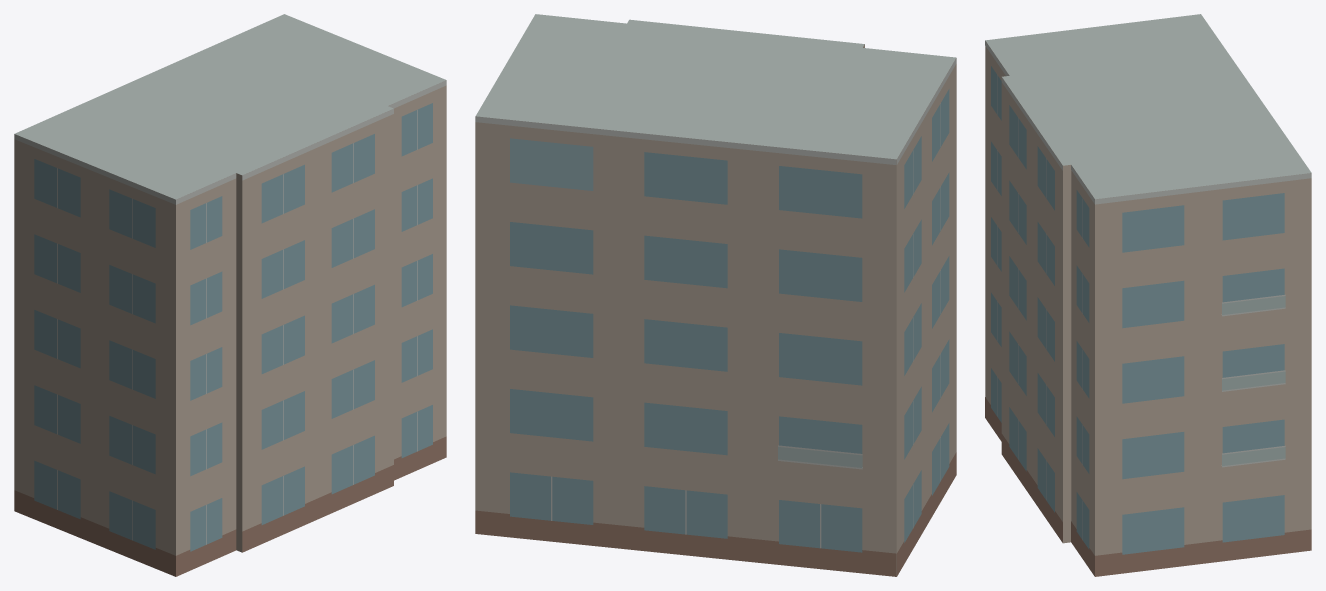
Rendered from survey-upis-32709729.glb.
3 views of the same model, side by side, from view 1: azimuth 30°, elevation 25°; view 2: azimuth 150°, elevation 25°; view 3: azimuth 270°, elevation 25° (orthographic). The views are drawn at different scales.
Visible parts, largest first — view 1: survey-upis-32709729.tmp; view 2: survey-upis-32709729.tmp; view 3: survey-upis-32709729.tmp.
Part boxes in pixels (<box>): survey-upis-32709729.tmp: <box>14,14,446,576</box>; survey-upis-32709729.tmp: <box>475,14,956,576</box>; survey-upis-32709729.tmp: <box>985,14,1311,576</box>.
Bounding box in the file's own units: 18.43 × 17.5 × 13.73.
